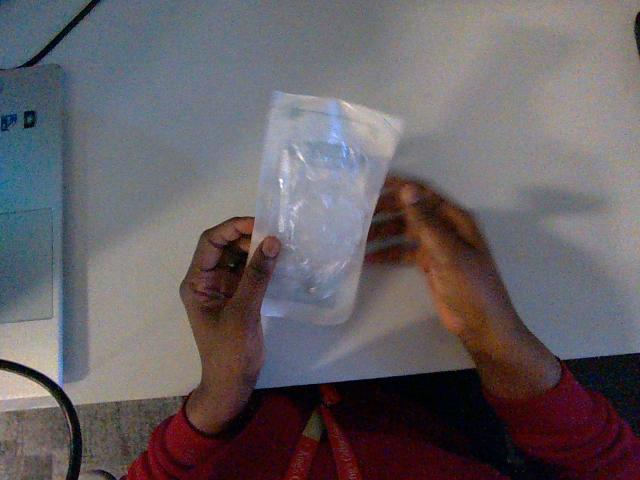gallipot: (251, 92, 402, 324)
